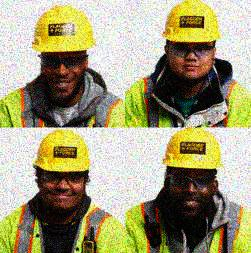helmet: (30, 4, 97, 101), (161, 129, 222, 216), (33, 130, 91, 213), (162, 1, 221, 80)
